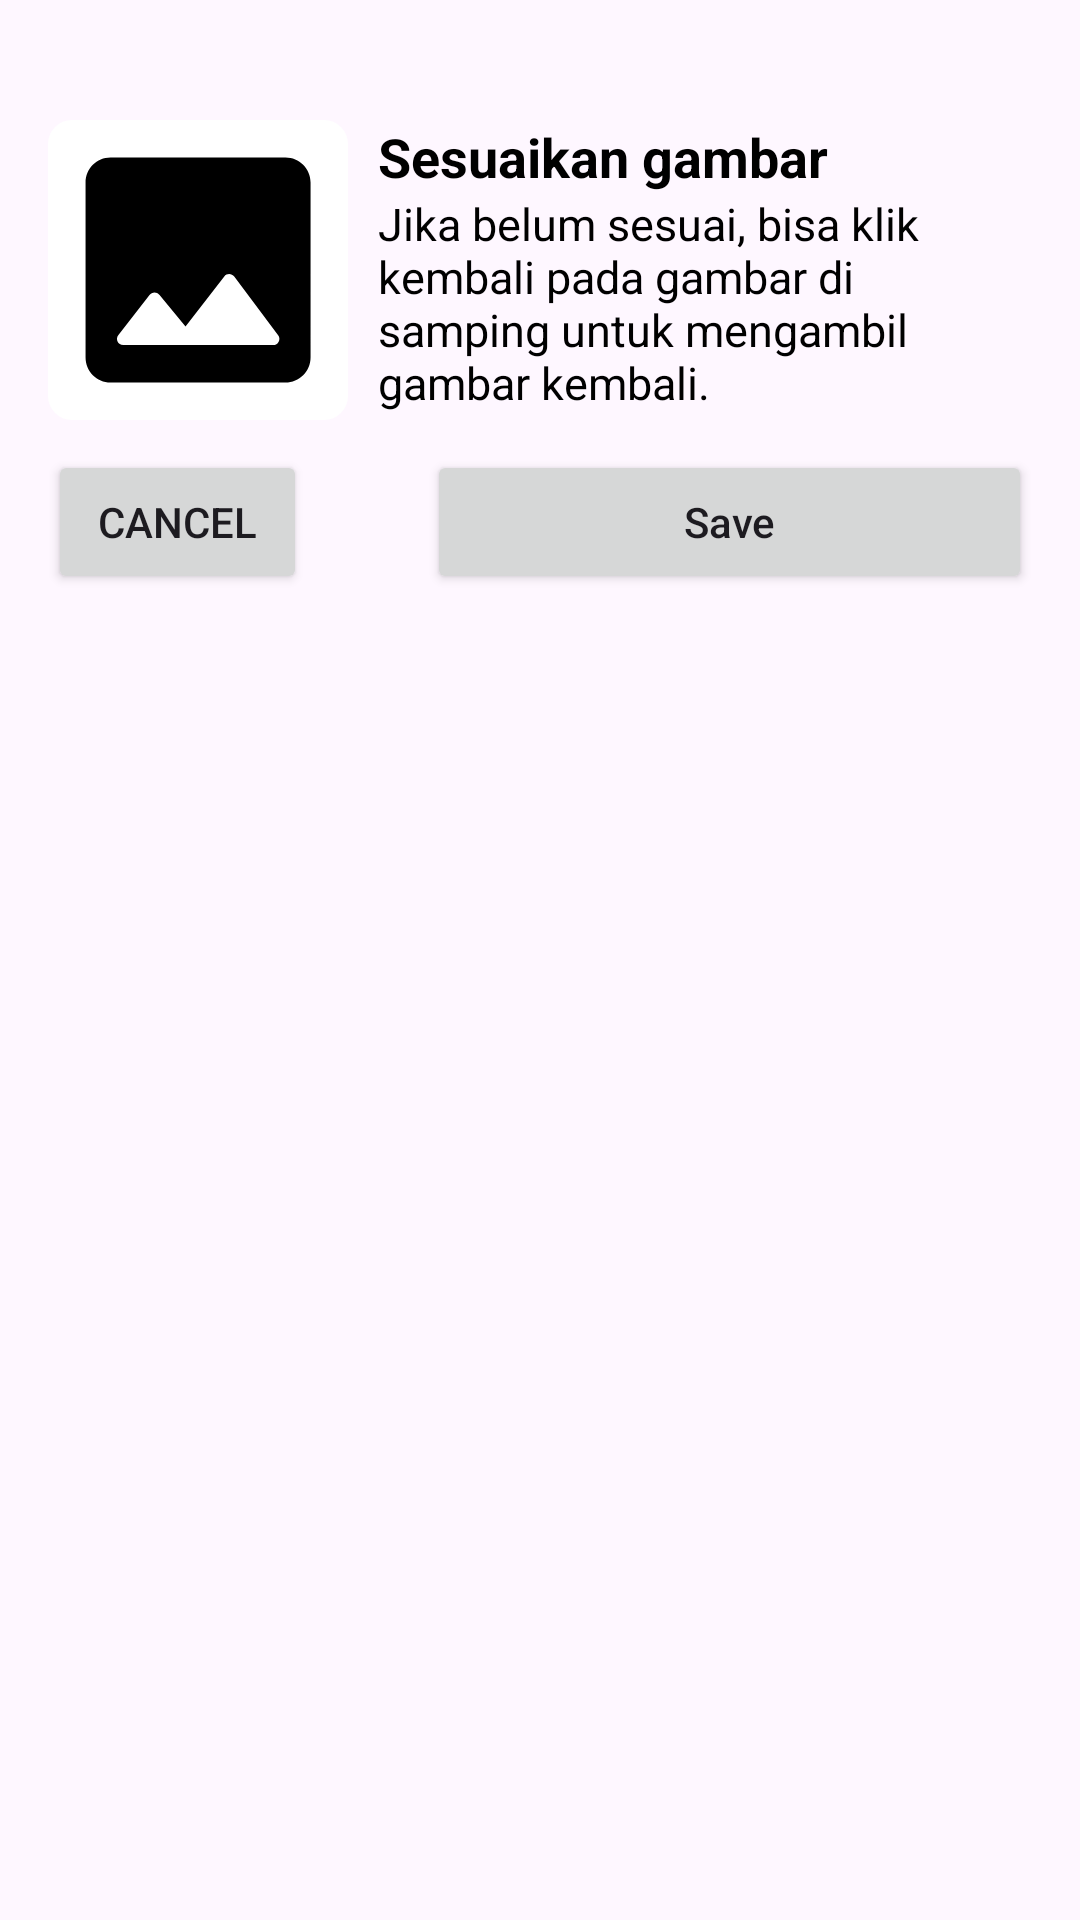

Icons on this 1080px x 1920px Android screen, each with its box as {"x1": x1, "y1": y1, "x2": x2, "y2": y2}:
photo: {"x1": 85, "y1": 157, "x2": 311, "y2": 383}
